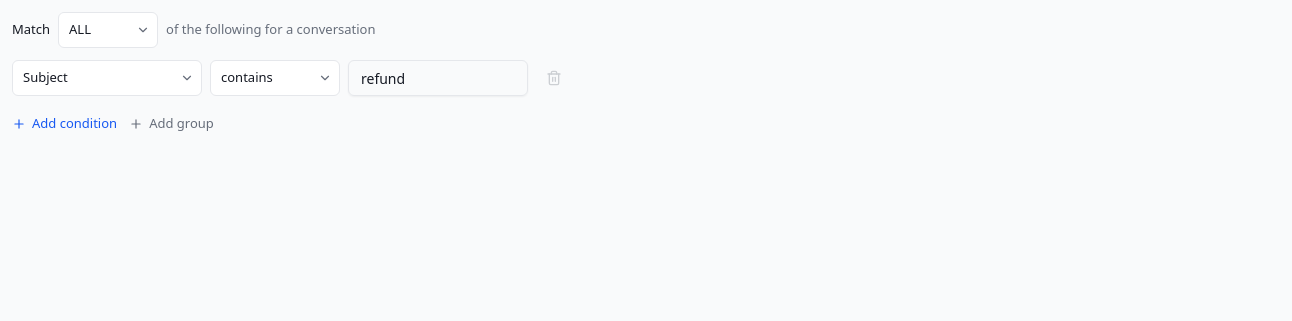
the condition builder › nests exactly one level deep and no further
Click the button "Add group" at (171, 124), box 129,108 -> 214,140
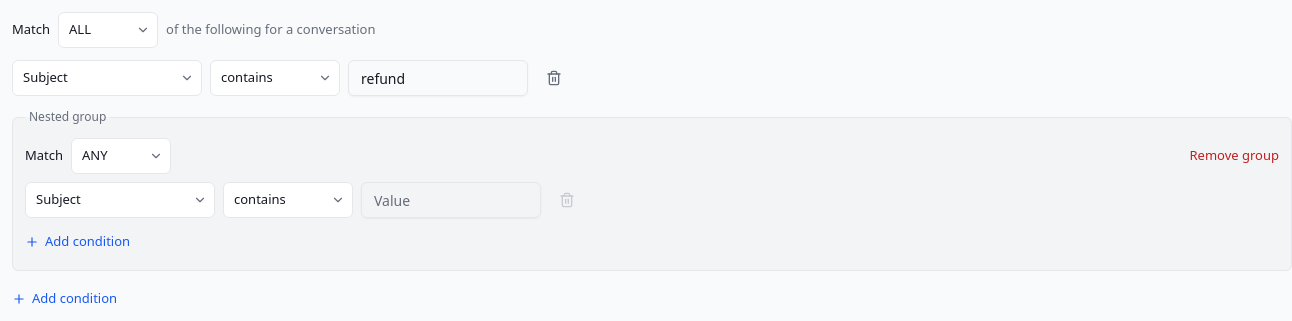
Expected: the text "Nested group" is shown, 25,108 -> 110,126
Expected: the button "Add group" is gone
